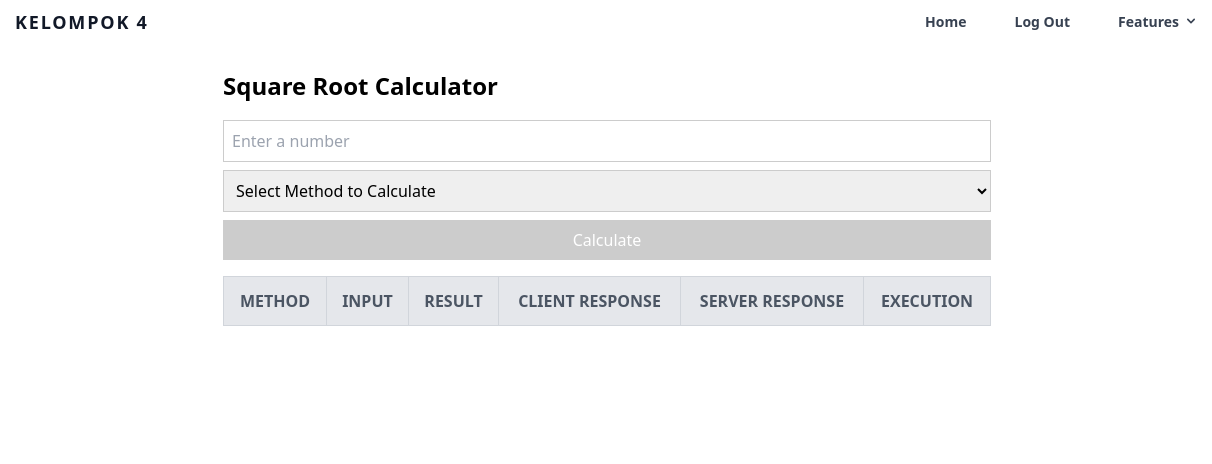
Test: SquareRoot Component › shows error for negative input
Type "-4" into the number field with placeholder "Enter a number" at (607, 141), box [223,120,991,162]
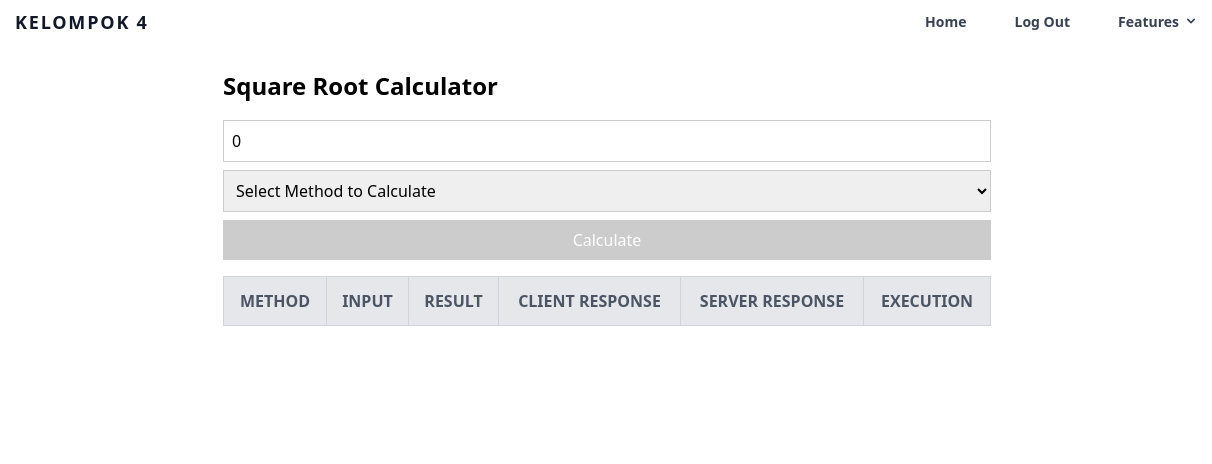
Select "API" in the dropdown at (607, 191), box [223,170,991,212]
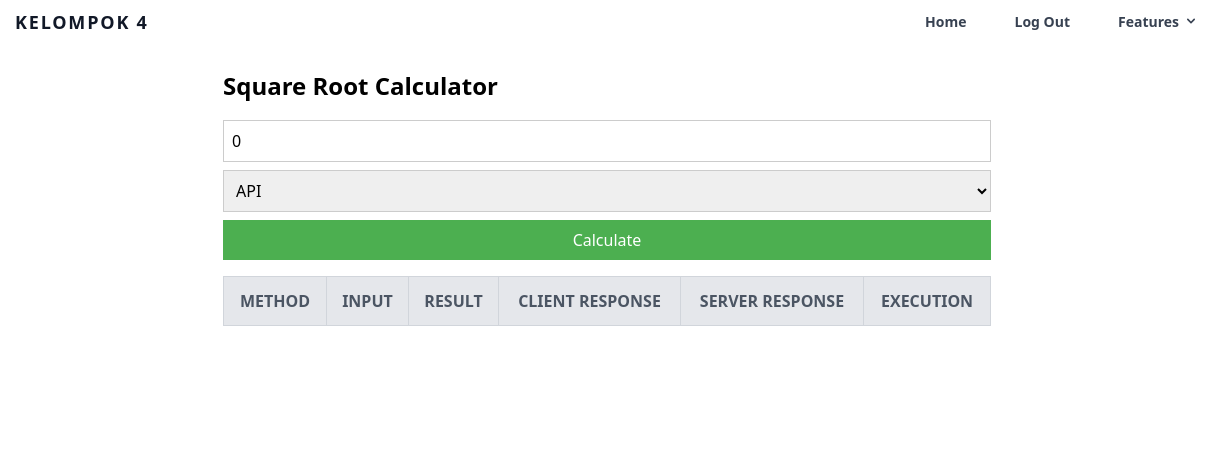
Click the button "Calculate" at (607, 240), box [223,220,991,260]
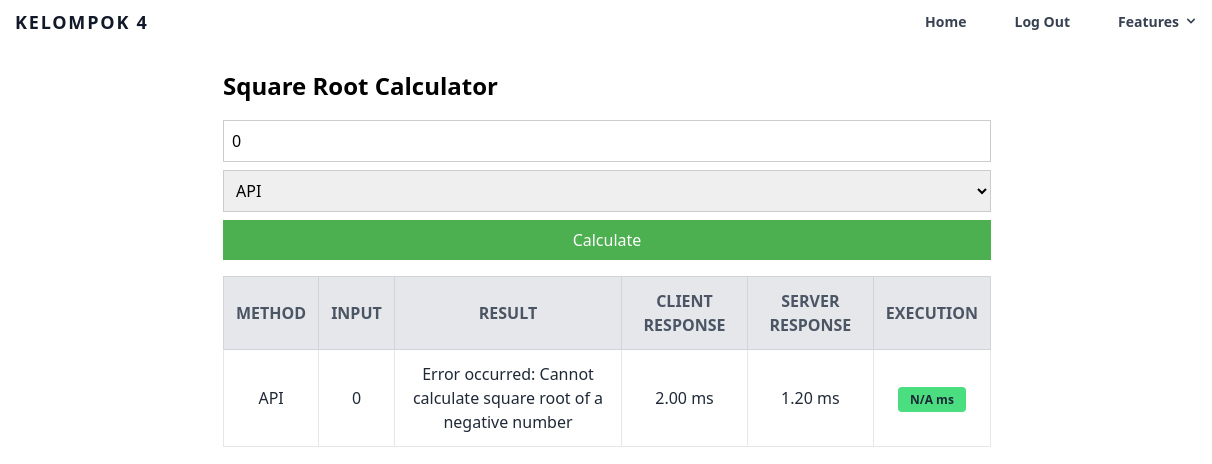
Expected: the text "Cannot calculate square root of a negative number" is shown, [413,363,603,433]
